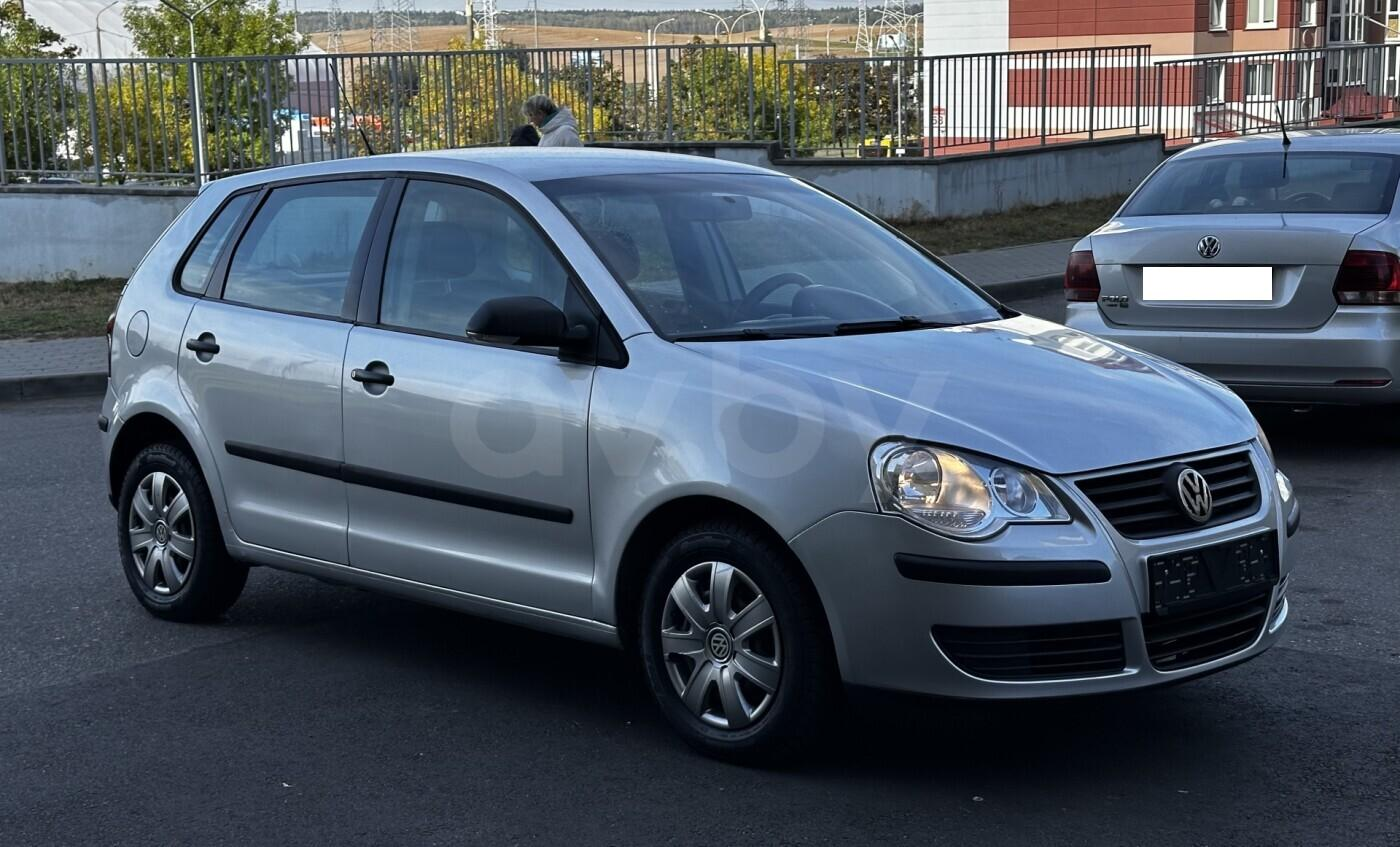Polo_2005-2009: (87, 142, 1288, 770)
